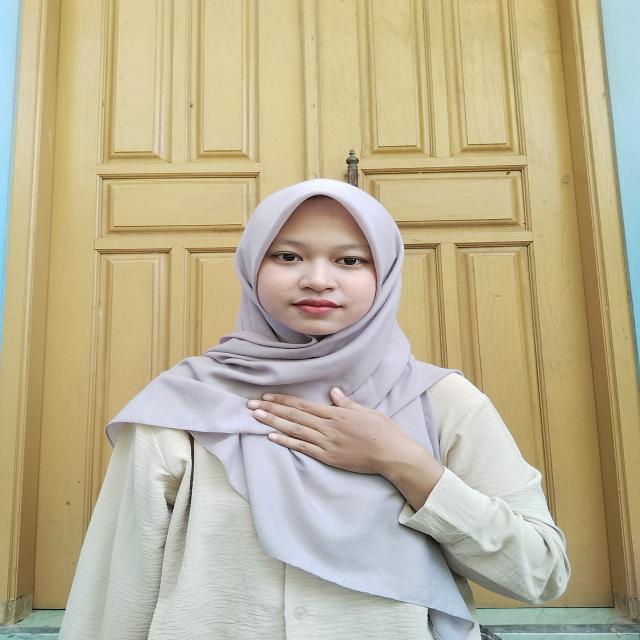tolong: (214, 379, 452, 533)
